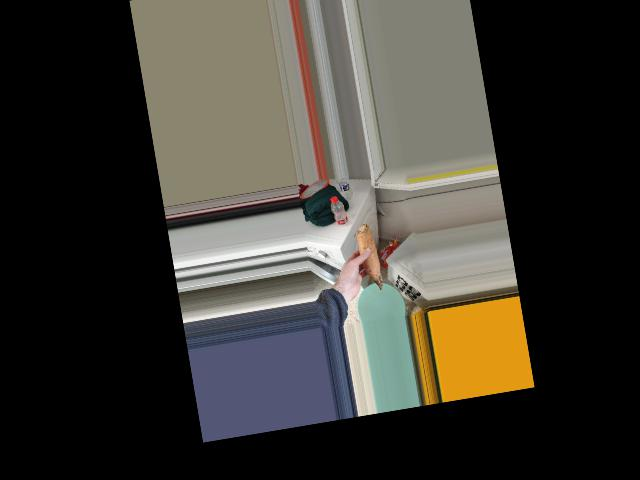sweet_potato: (349, 218, 388, 294)
